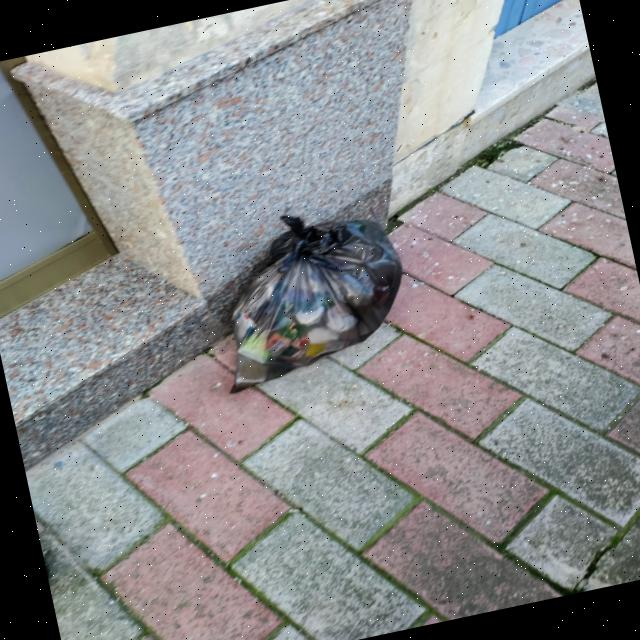Mixed Waste: (200, 192, 418, 388)
